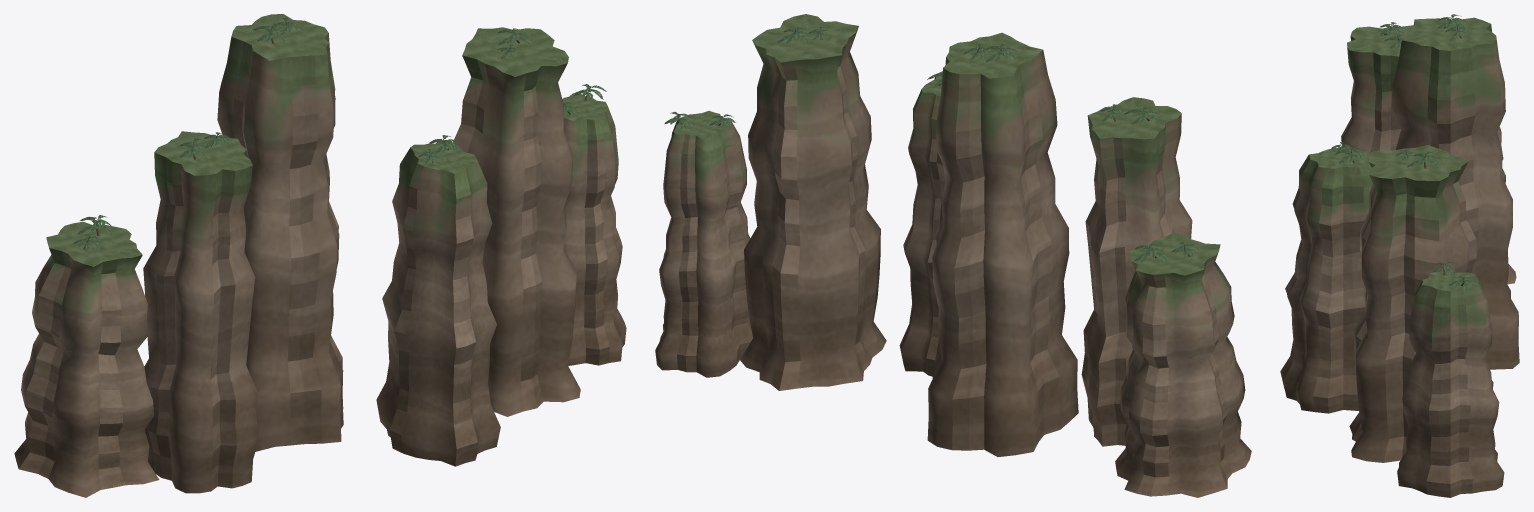
Rendered from zjj_pillar_cluster.glb.
The picture shows the model from 3 angles, left to right: view 1: azimuth 30°, elevation 25°; view 2: azimuth 150°, elevation 25°; view 3: azimuth 270°, elevation 25°; orthographic projection. The views are drawn at different scales.
Parts seen in each view (by area): view 1: zjj_pillar_cluster; view 2: zjj_pillar_cluster; view 3: zjj_pillar_cluster.
Part boxes in pixels (x1,y1,x2,y2): zjj_pillar_cluster: (14, 14, 626, 497); zjj_pillar_cluster: (655, 14, 1251, 497); zjj_pillar_cluster: (1280, 14, 1519, 497).
Bounding box in the file's own units: 54 × 34 × 22.
Materials: 2 (2 with a texture image).
